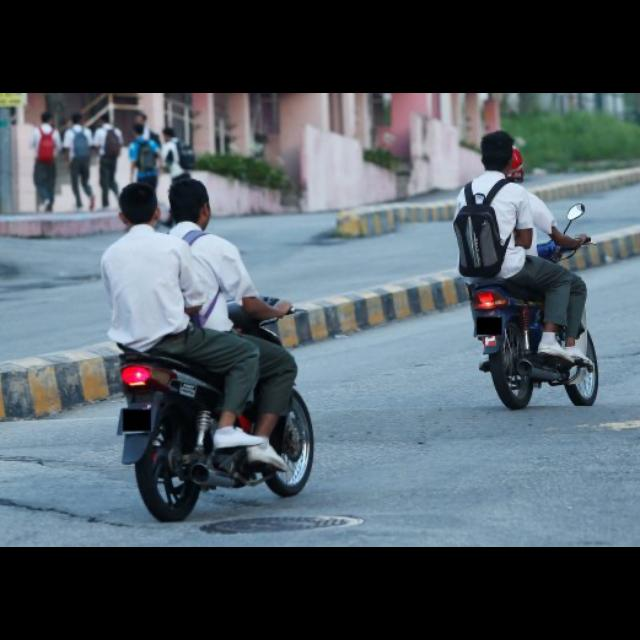Without Helmet: (163, 170, 217, 228)
